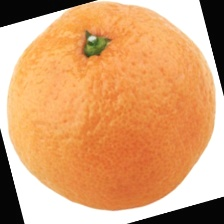orange: (23, 23, 222, 194)
